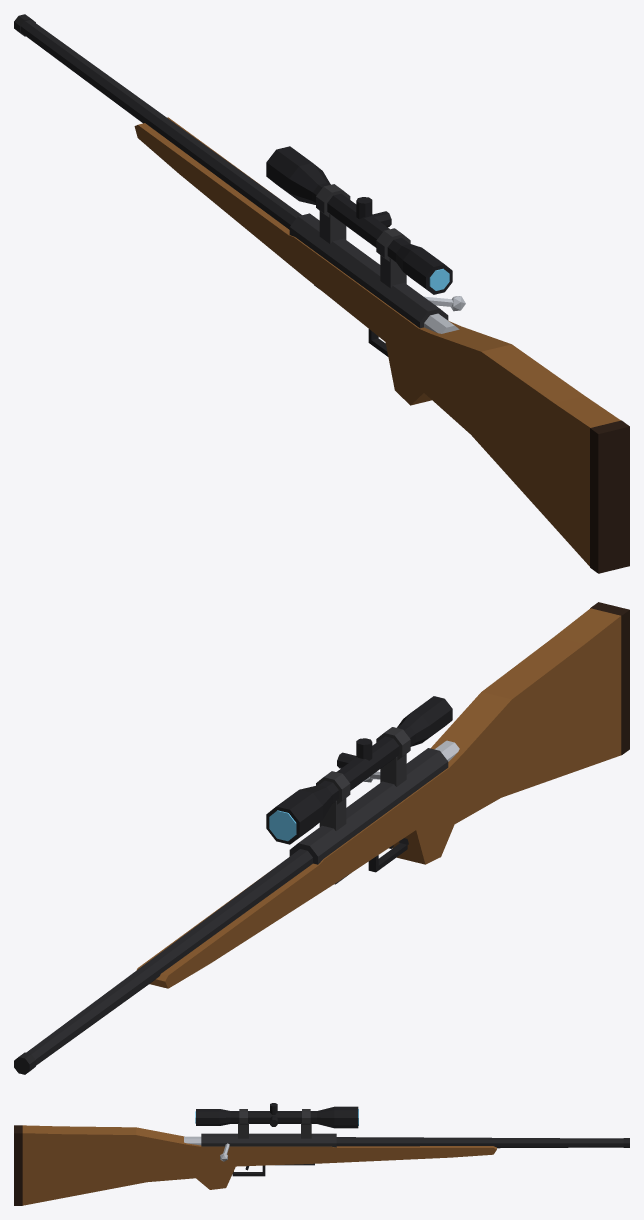
Rendered from Hawkeye.glb.
3 views of the same model, one above another, from view 1: azimuth 30°, elevation 25°; view 2: azimuth 150°, elevation 25°; view 3: azimuth 270°, elevation 25° (orthographic). The views are drawn at different scales.
Visible parts, largest first — view 1: Stock, Barrel, Scope, Pad, Body, Mount, Bolt; view 2: Stock, Barrel, Scope, Body, Mount, Pad, Lens; view 3: Stock, Barrel, Scope, Body, Pad, Mount, Bolt, Trigger.
Boxes of the visible parts, x1=… form: Stock: x1=134, y1=117, x2=620, y2=566; Barrel: x1=21, y1=19, x2=301, y2=229; Scope: x1=266, y1=146, x2=452, y2=294; Pad: x1=590, y1=420, x2=629, y2=573; Body: x1=289, y1=213, x2=448, y2=328; Mount: x1=316, y1=184, x2=410, y2=288; Bolt: x1=424, y1=296, x2=465, y2=333; Stock: x1=136, y1=608, x2=621, y2=988; Barrel: x1=26, y1=849, x2=312, y2=1065; Scope: x1=266, y1=696, x2=452, y2=844; Body: x1=289, y1=748, x2=448, y2=864; Mount: x1=316, y1=727, x2=410, y2=830; Pad: x1=590, y1=602, x2=629, y2=755; Lens: x1=269, y1=810, x2=296, y2=841; Stock: x1=22, y1=1125, x2=496, y2=1205; Barrel: x1=336, y1=1137, x2=623, y2=1148; Scope: x1=196, y1=1103, x2=358, y2=1128; Body: x1=201, y1=1133, x2=336, y2=1147; Pad: x1=14, y1=1125, x2=22, y2=1205; Mount: x1=238, y1=1109, x2=311, y2=1138; Bolt: x1=184, y1=1136, x2=229, y2=1161; Trigger: x1=232, y1=1165, x2=265, y2=1176.
Size of the model in its own units: 0.3781 by 0.99 by 5.69.
